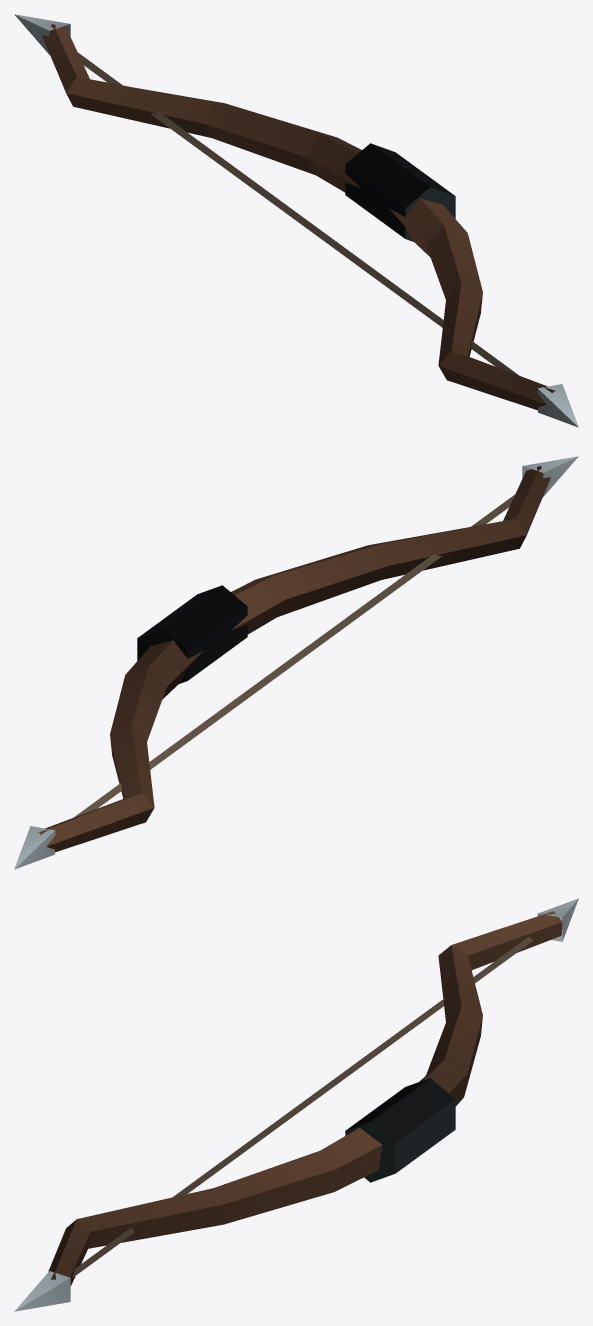
File: ranger_soulbow_1.gltf
3 views of the same model, one above another, from view 1: azimuth 30°, elevation 25°; view 2: azimuth 150°, elevation 25°; view 3: azimuth 330°, elevation 25° (orthographic).
Parts seen in each view (by area): view 1: ranger_soulbow_1; view 2: ranger_soulbow_1; view 3: ranger_soulbow_1.
Part boxes in pixels (x1,y1,x2,y2): ranger_soulbow_1: (14,14,578,427); ranger_soulbow_1: (14,456,578,869); ranger_soulbow_1: (14,898,578,1311).
Size of the model in its own units: 0.4003 by 0.1344 by 2.26.
Materials: 1 (1 with a texture image).
